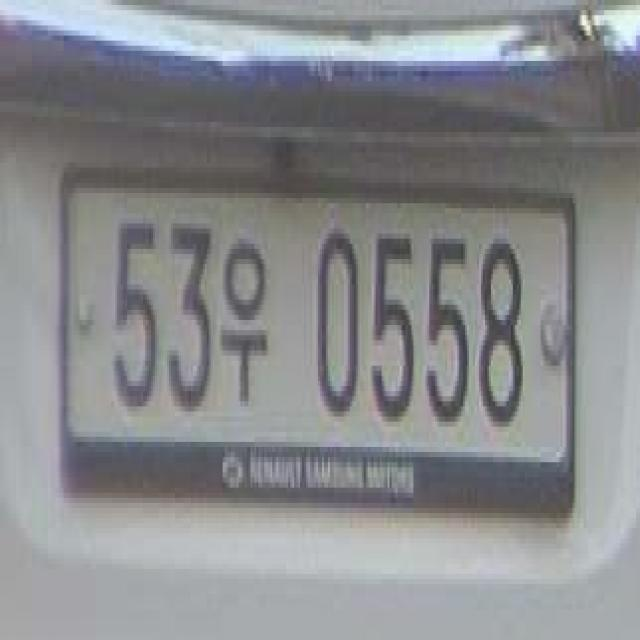0: (310, 208, 362, 452)
3: (171, 198, 213, 422)
5: (366, 198, 415, 452), (111, 198, 161, 437), (429, 198, 475, 447)
8: (475, 218, 535, 462)
license_plate: (54, 163, 590, 523)
u: (213, 234, 284, 422)
